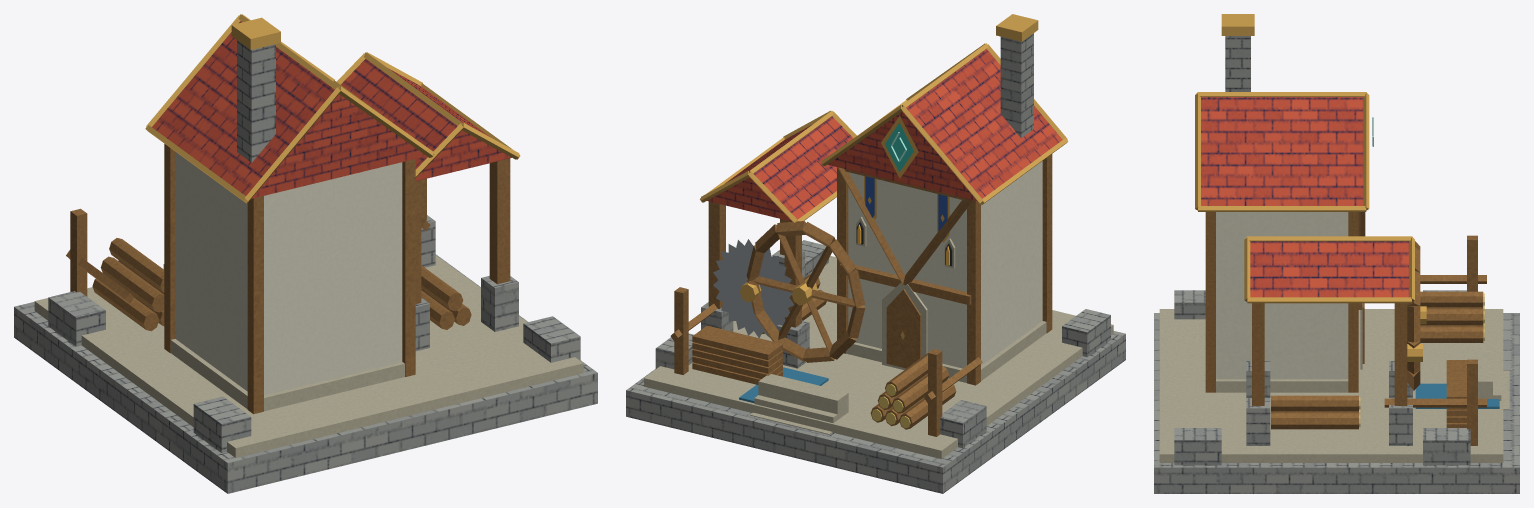
Rendered from Sawmill_2.fbx.
The picture shows the model from 3 angles, left to right: view 1: azimuth 30°, elevation 25°; view 2: azimuth 150°, elevation 25°; view 3: azimuth 270°, elevation 25°; orthographic projection. The views are drawn at different scales.
Visible parts, largest first — view 1: Sawmill_2; view 2: Sawmill_2; view 3: Sawmill_2.
Boxes of the visible parts, x1=… form: Sawmill_2: x1=14, y1=14, x2=597, y2=493; Sawmill_2: x1=626, y1=14, x2=1125, y2=493; Sawmill_2: x1=1154, y1=14, x2=1519, y2=493.
Size of the model in its own units: 1 by 1.06 by 1.
1 material, 1 textured.
